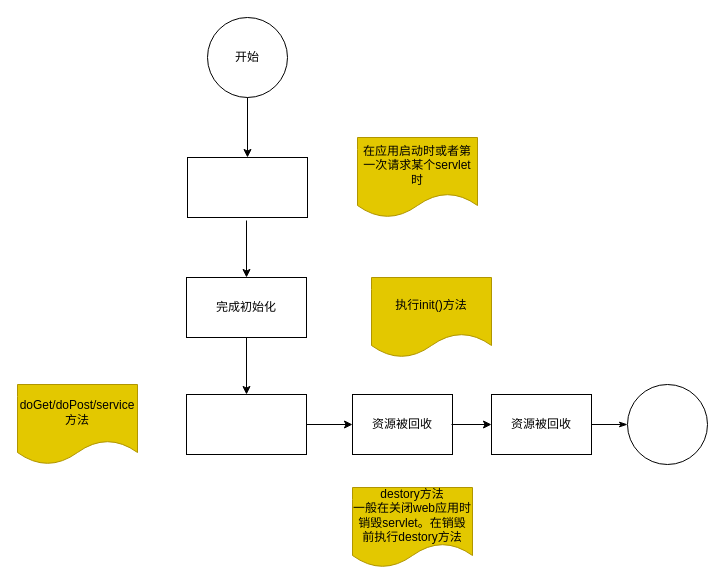
This 725x585 diagram has some shape labels left out. Here are the shapes that lost their labels. From the top down, the centre of each, then its label:
point (247, 187): 创建实例
point (246, 424): 响应客户端请求
point (667, 424): 结束
